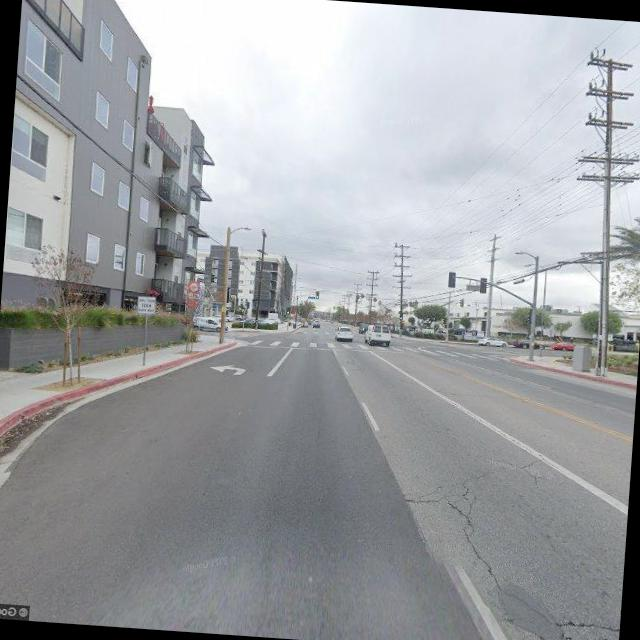pothole: (412, 462, 561, 628)
